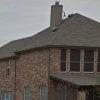Chimney: (43, 0, 66, 29)
